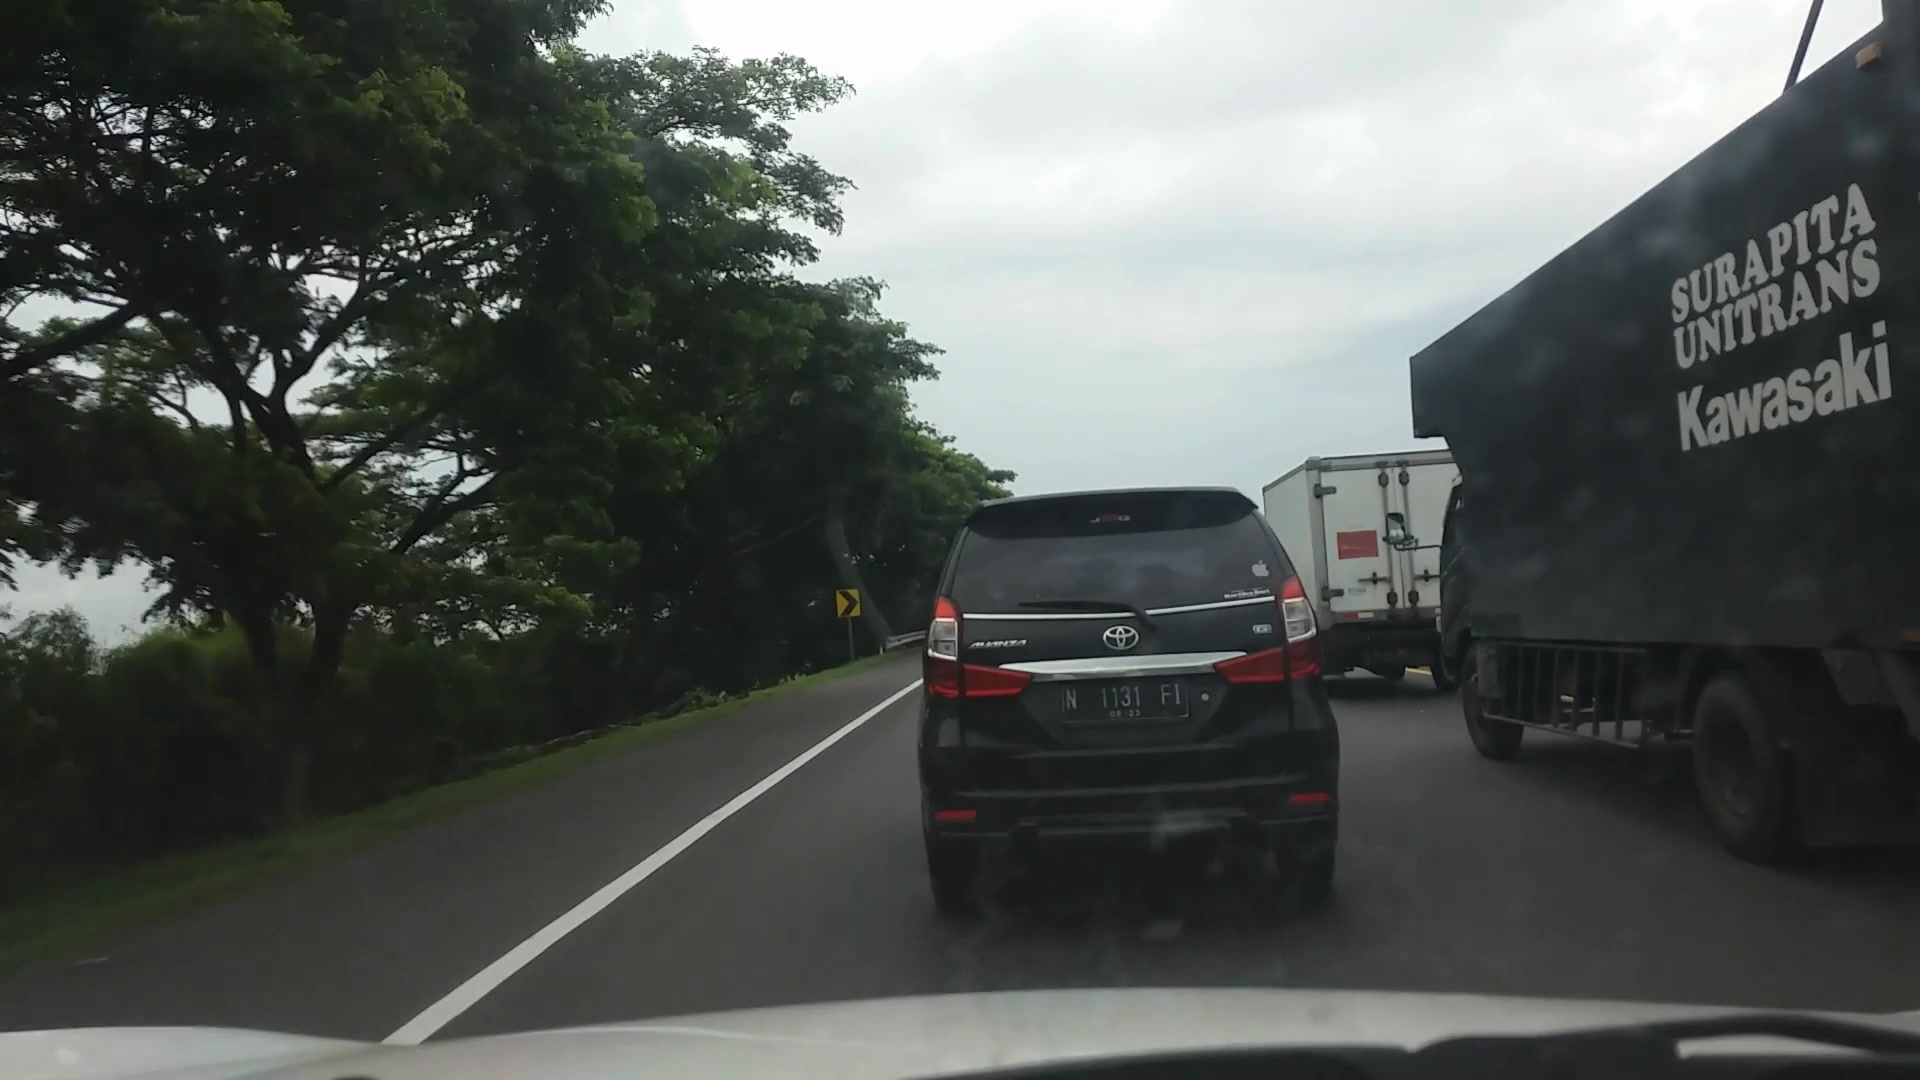plate_positive: (1062, 680, 1188, 719)
